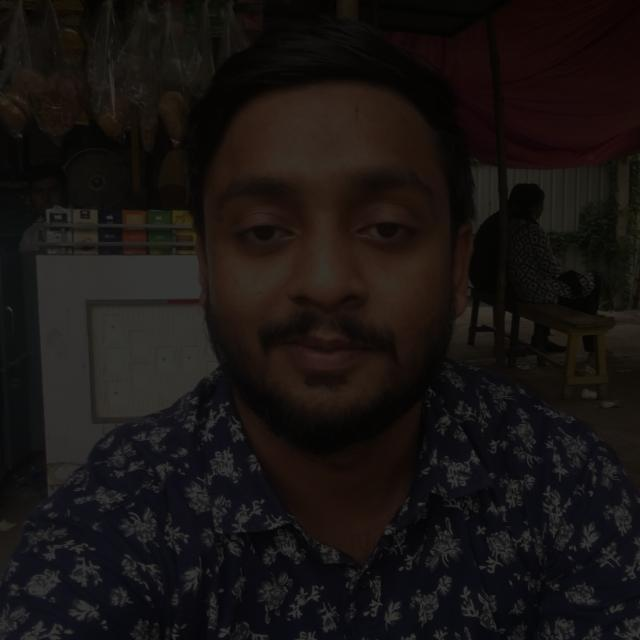Natural: (76, 107, 498, 421)
